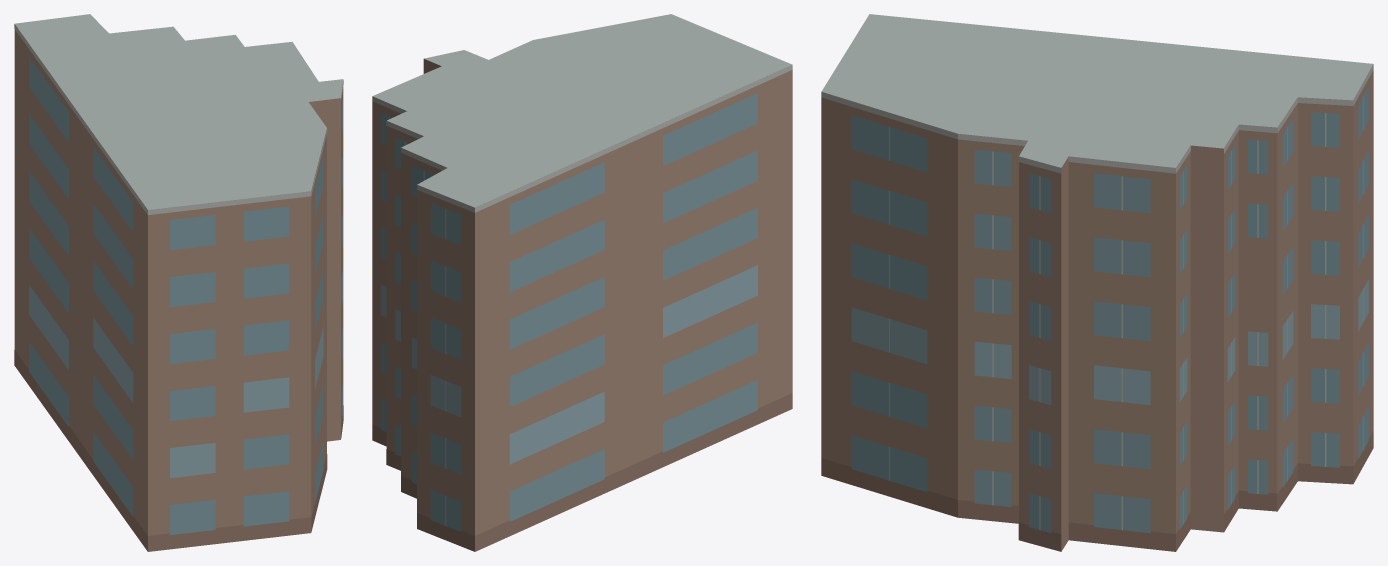
File: survey-upis-32941582.glb
The picture shows the model from 3 angles, left to right: view 1: azimuth 30°, elevation 25°; view 2: azimuth 150°, elevation 25°; view 3: azimuth 270°, elevation 25°; orthographic projection. The views are drawn at different scales.
Visible parts, largest first — view 1: survey-upis-32941582.tmp; view 2: survey-upis-32941582.tmp; view 3: survey-upis-32941582.tmp.
Boxes of the visible parts, x1,y1,x2,y2 form: survey-upis-32941582.tmp: (14, 14, 343, 551); survey-upis-32941582.tmp: (372, 14, 792, 551); survey-upis-32941582.tmp: (821, 14, 1373, 551).
Size of the model in its own units: 14.14 by 16.43 by 21.43.
